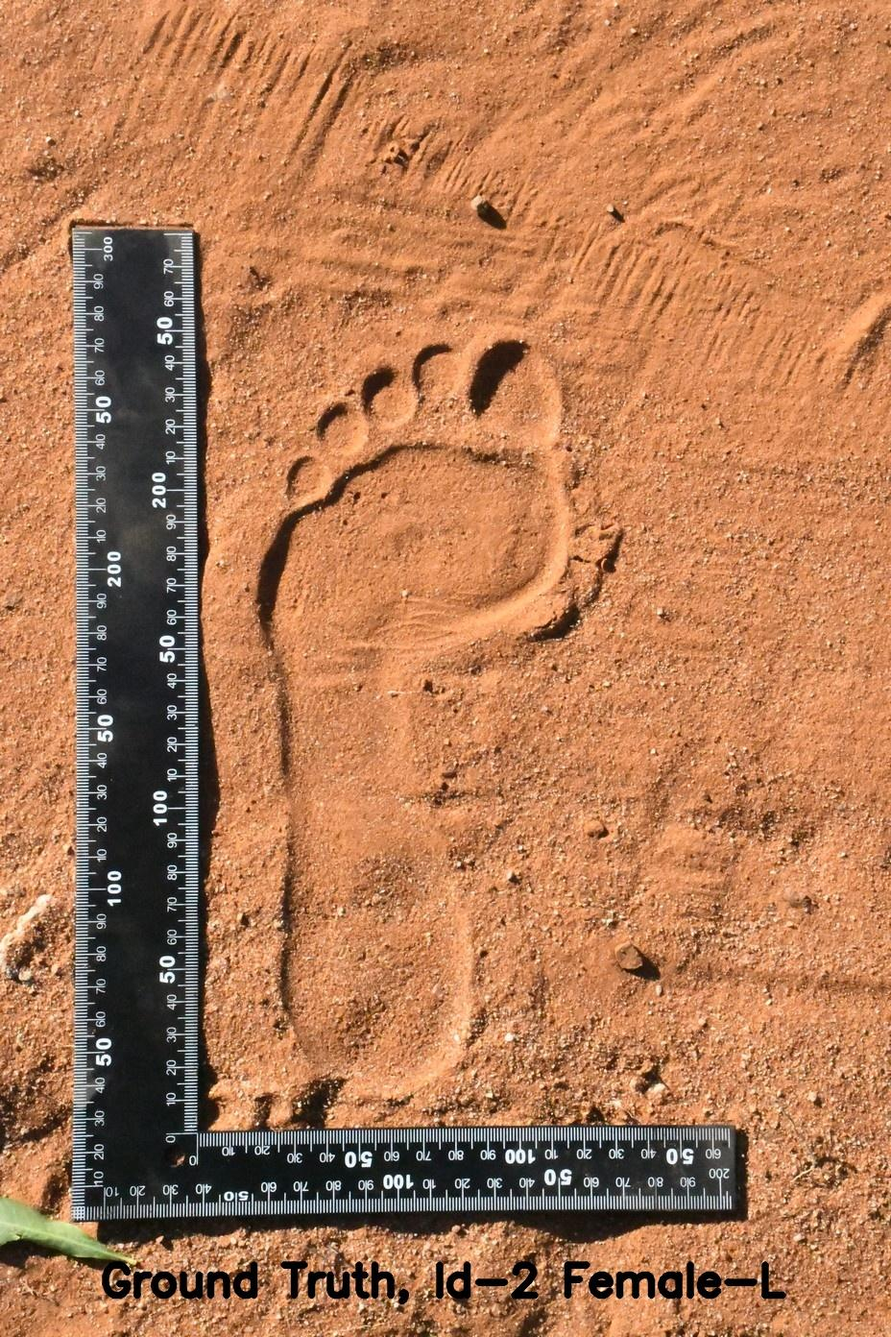human_footprint: (215, 269, 612, 1114)
